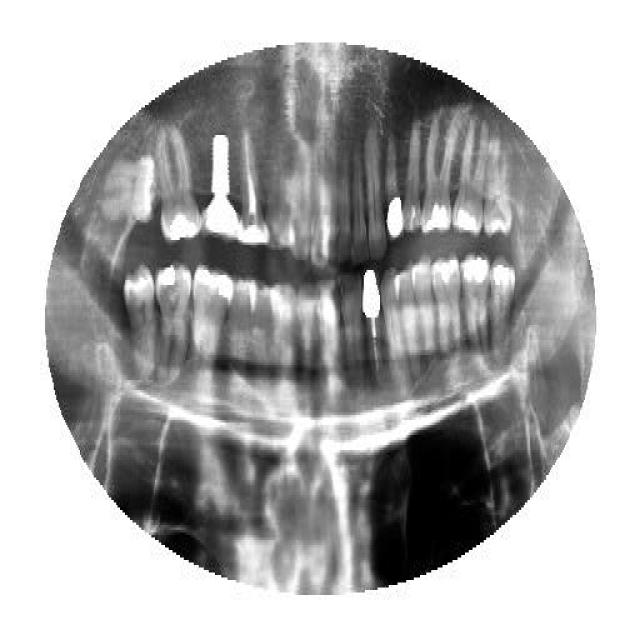Fillings: (158, 133, 198, 255), (195, 262, 233, 380), (158, 263, 194, 385), (452, 120, 488, 240), (421, 118, 455, 232), (461, 255, 491, 370), (433, 257, 462, 355), (490, 258, 516, 362), (385, 120, 406, 242)
Impacted Tooth: (102, 145, 156, 253)
Implant: (235, 123, 266, 255), (203, 132, 235, 242), (364, 268, 384, 398)
